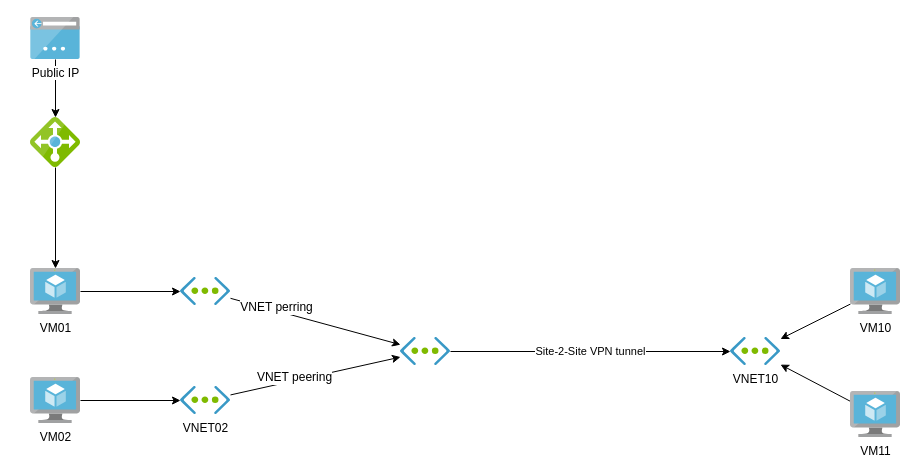
This 918x475 diagram has some shape labels left out. Here are the shapes that lost their labels. From the top down, the centre of each, then its label:
At point 55,142: "Load Balancer".
At point 205,291: "VNET01".
At point 425,351: "VNET00".
